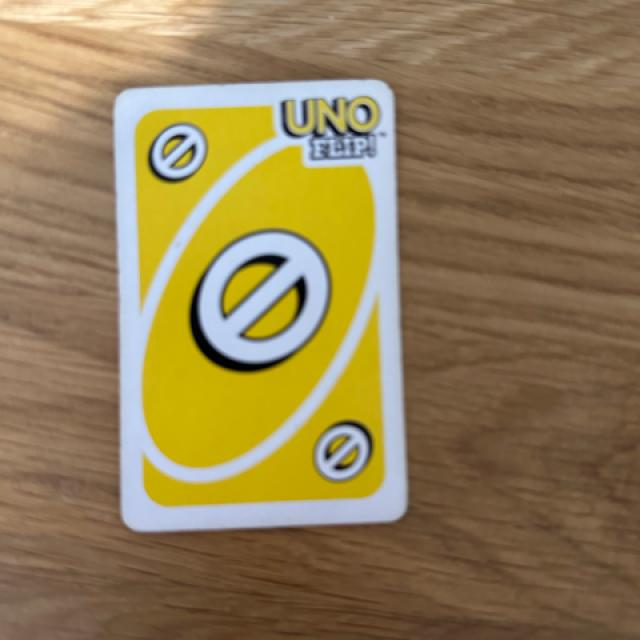lyellowskip-20: (130, 102, 233, 202)
